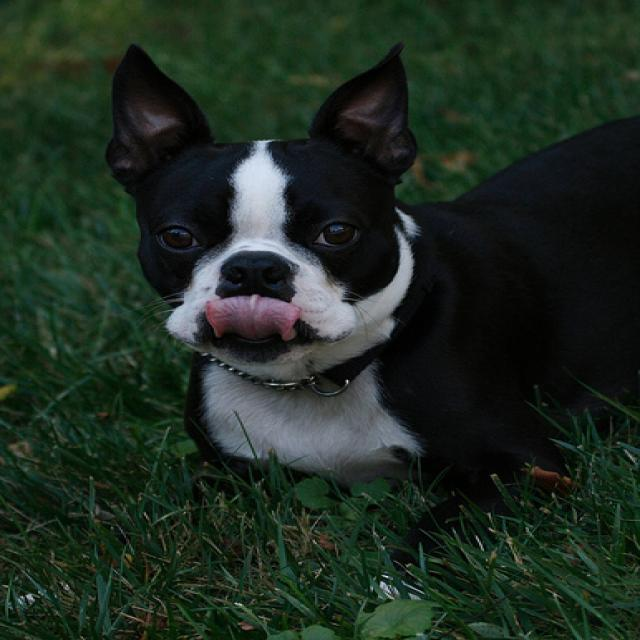dog-boxer: (103, 37, 637, 485)
